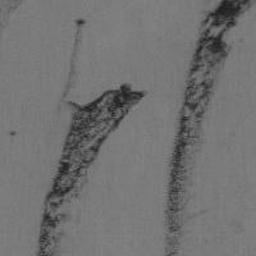Inclusion: (37, 17, 147, 256), (164, 0, 256, 256)
